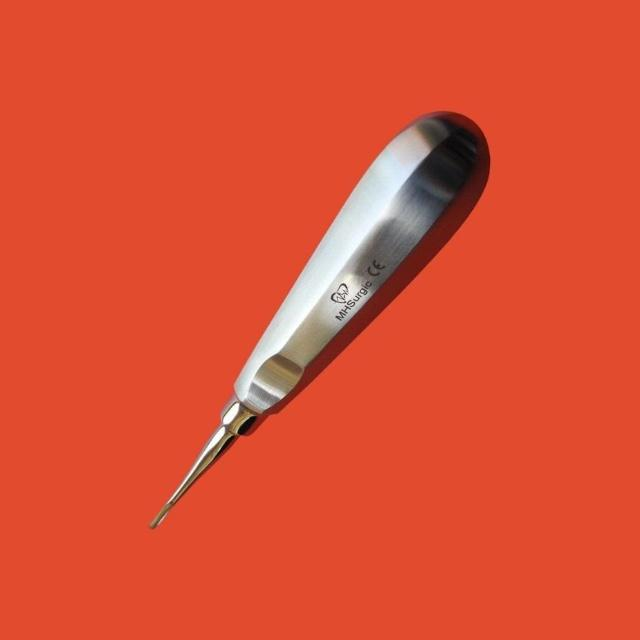botador: (148, 111, 493, 532)
